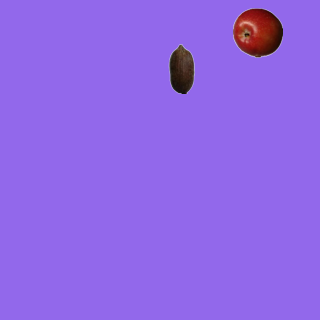Apple Braeburn: (232, 7, 282, 57)
Nut Pecan: (156, 43, 206, 93)
